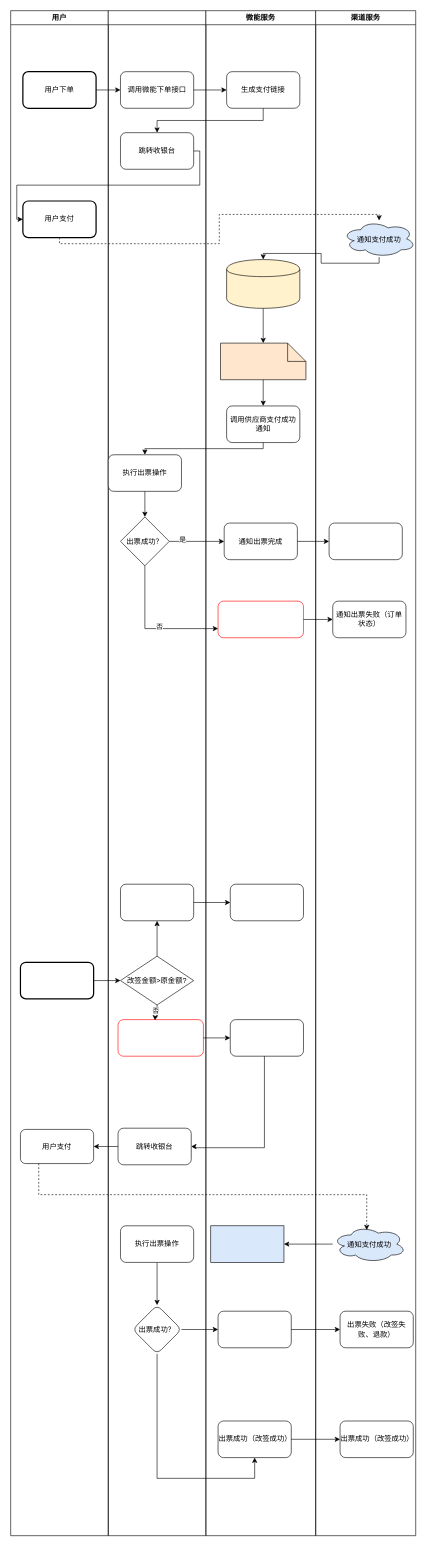
Image size: 426x1546. Some labels were removed from this diagram. Here are the shapes that lost their labels. From the top down, the box of each, then its label:
(226, 259, 300, 308): 渠道扣款操作
(220, 343, 306, 380): 订单状态：支付成功，出票中
(328, 522, 402, 560): 通知出票完成（订单状态）
(217, 601, 303, 638): 通知出票失败并退款
(108, 10, 206, 1536): 供应商H5
(120, 884, 194, 921): 调用改签退款接口
(230, 884, 303, 921): 改签成功
(20, 961, 94, 999): 用户发起改签
(117, 1019, 203, 1056): 调用改签支付接口
(230, 1019, 303, 1056): 生成支付链接（改签中）
(210, 1225, 284, 1262): 通知供应商改签订单支付成功
(217, 1311, 291, 1348): 出票失败（改签失败）
